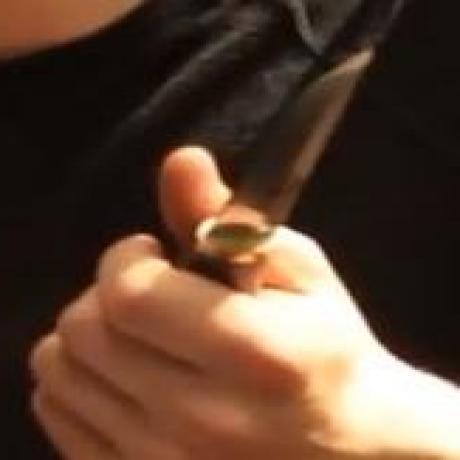1: (3, 144, 460, 460)
weapon: (192, 44, 376, 276)
